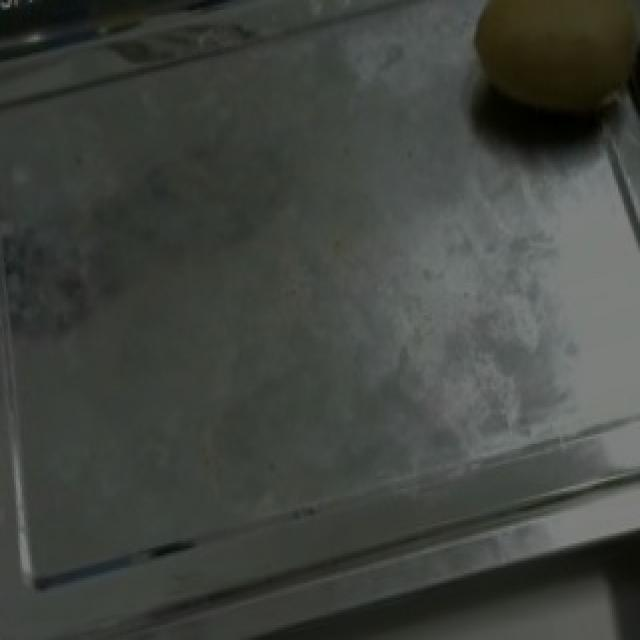Fruit: (442, 0, 640, 186)
